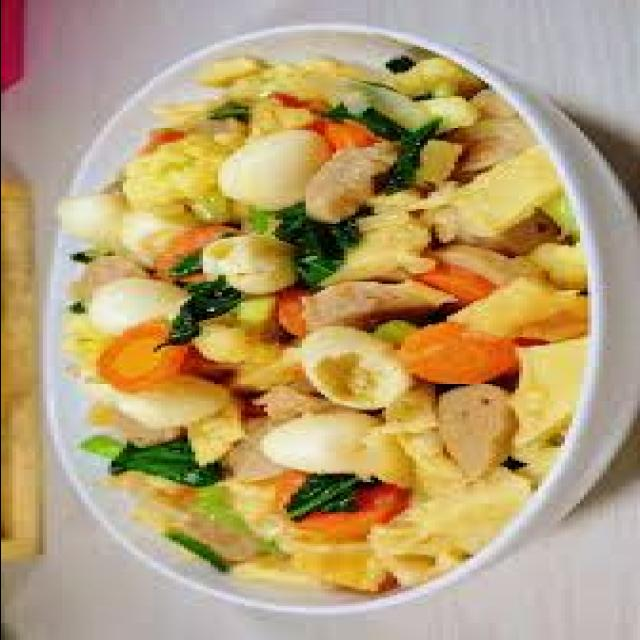capcay: (57, 26, 594, 591)
